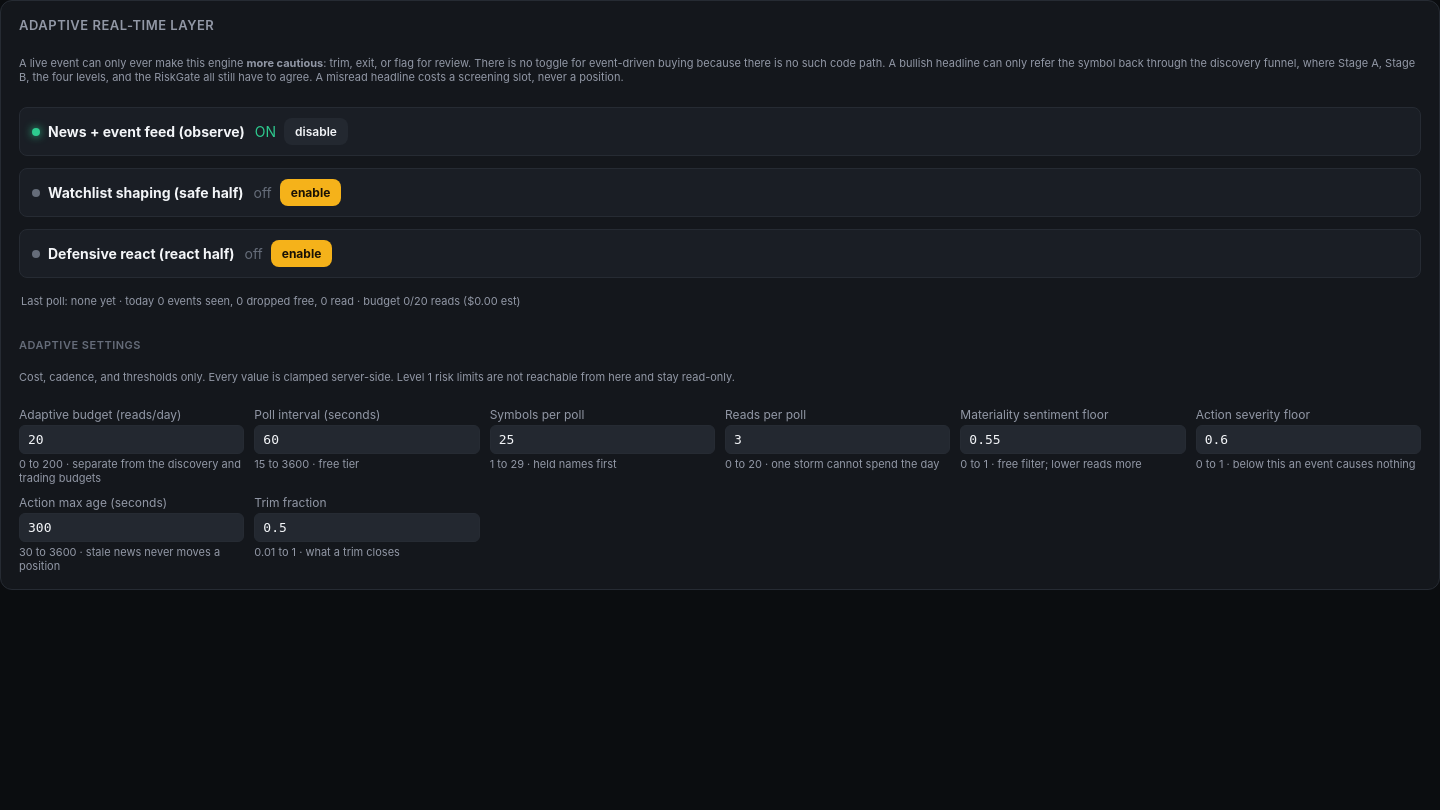
Test: enable toggles ask before they spend › states that shaping does not open a position
The width and height of the screenshot is (1440, 810).
What coordinates should you click on to do the following:
click the button "enable" in the row of "Watchlist shaping (safe half)"
I would click on:
 (310, 192)
Its box is 280,179 -> 341,206.
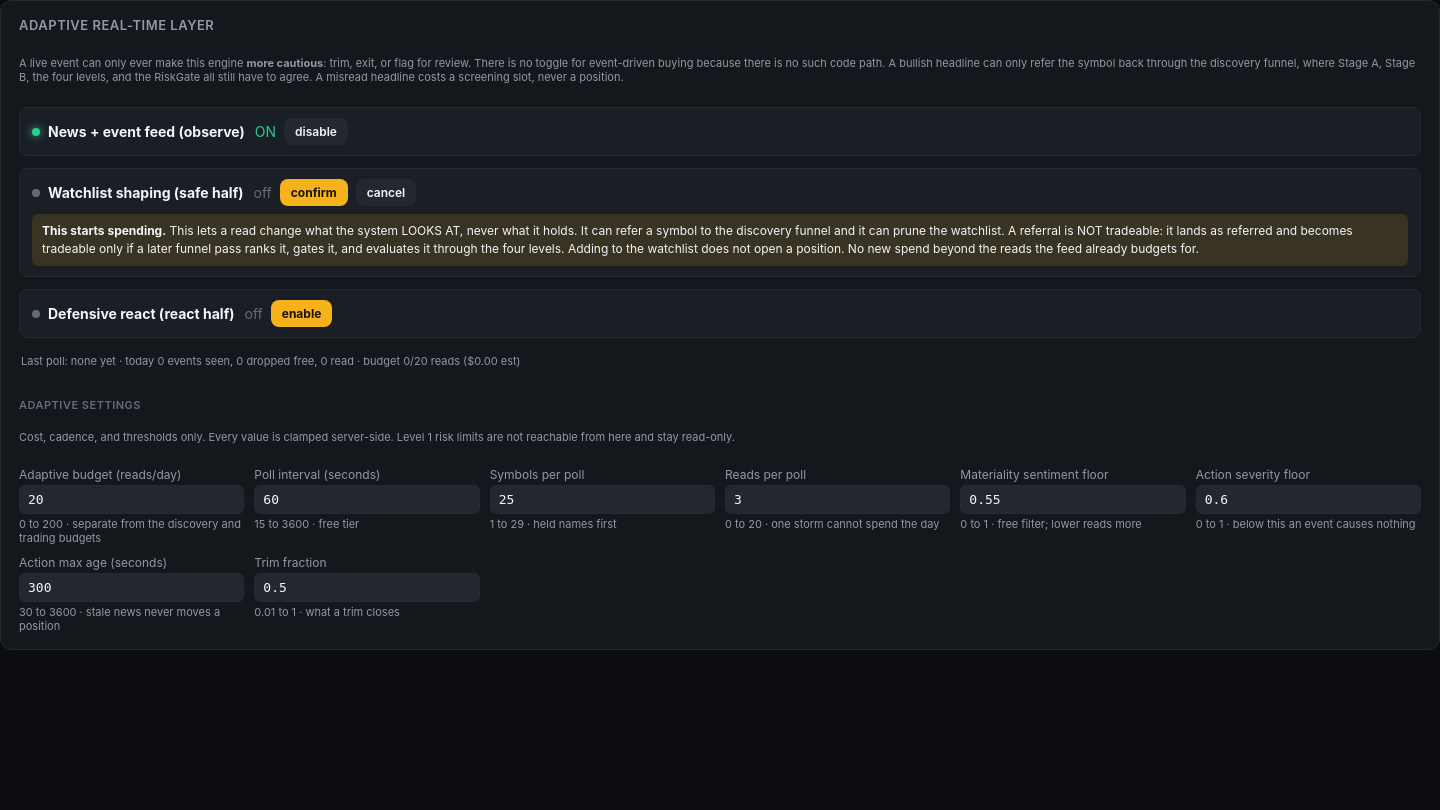
expect the element with test id "toggle-adaptive-shaping-confirm" shows "Adding to the watchlist does not open a position": met, box 42,223 -> 1353,256
expect the element with test id "toggle-adaptive-shaping-confirm" shows "NOT tradeable": met, box 42,223 -> 1353,256
